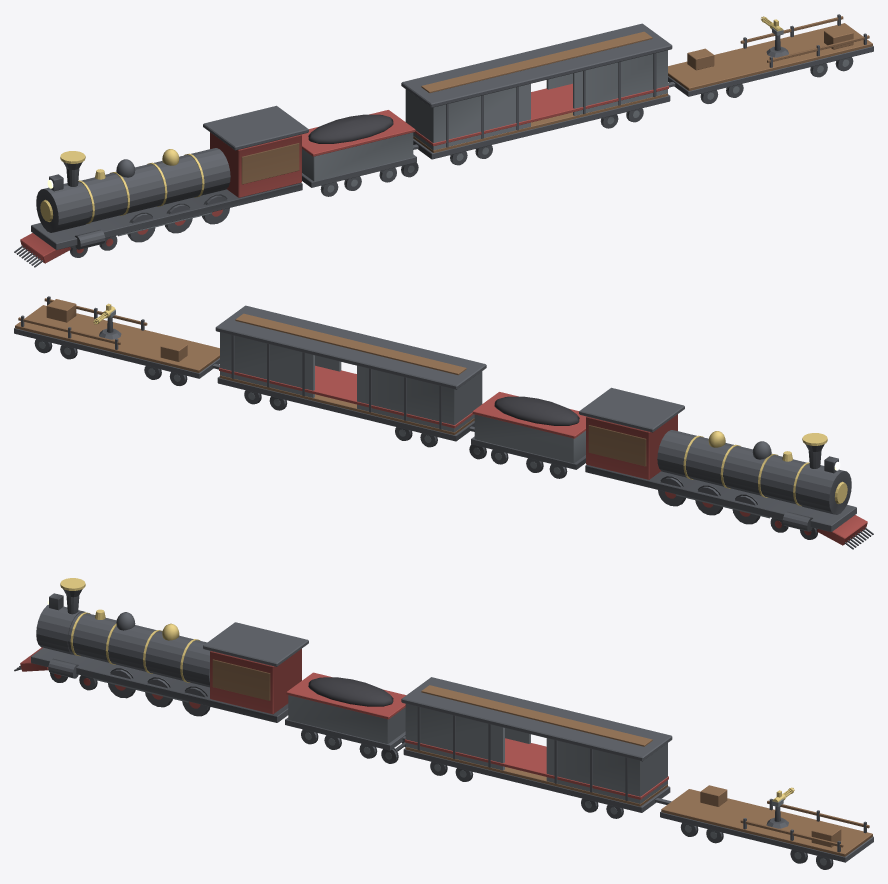
The model's file is train.glb.
3 renders of one model, top to bottom at view 1: azimuth 30°, elevation 25°; view 2: azimuth 150°, elevation 25°; view 3: azimuth 330°, elevation 25°, orthographic.
Parts seen in each view (by area): view 1: ArmoredTrainRoot; view 2: ArmoredTrainRoot; view 3: ArmoredTrainRoot.
Part boxes in pixels (left/top/right/bottom): ArmoredTrainRoot: left=14, top=14, right=873, bottom=267; ArmoredTrainRoot: left=14, top=296, right=873, bottom=549; ArmoredTrainRoot: left=14, top=578, right=873, bottom=869.
Bounding box in the file's own units: 42.69 × 4.55 × 2.86.
